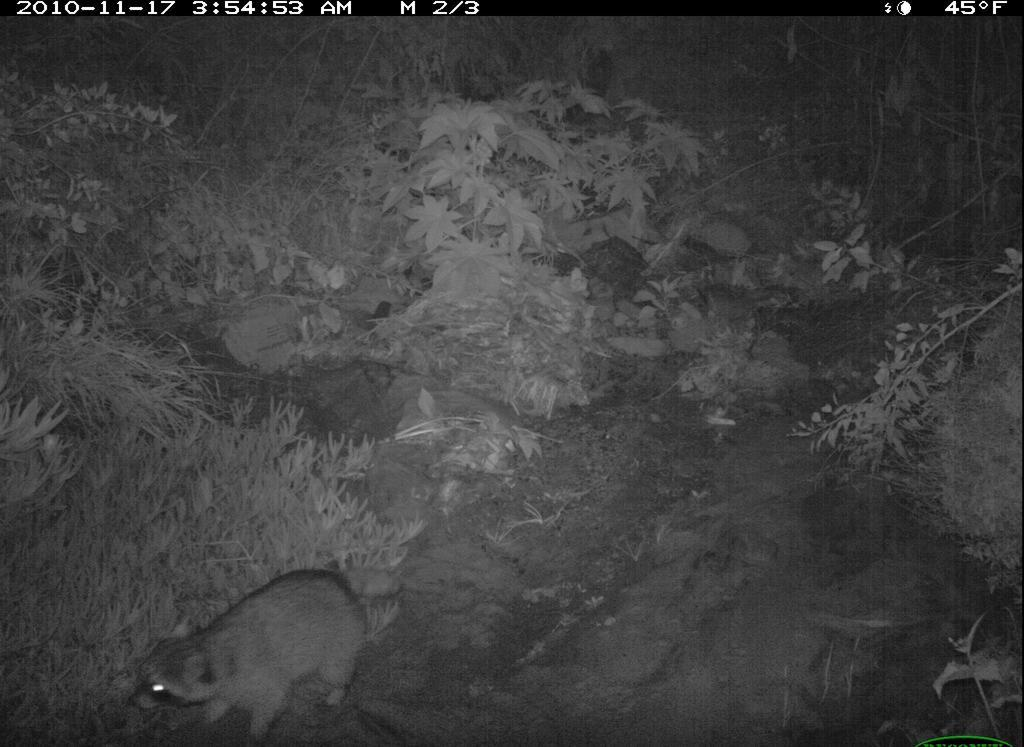raccoon: (123, 559, 418, 745)
